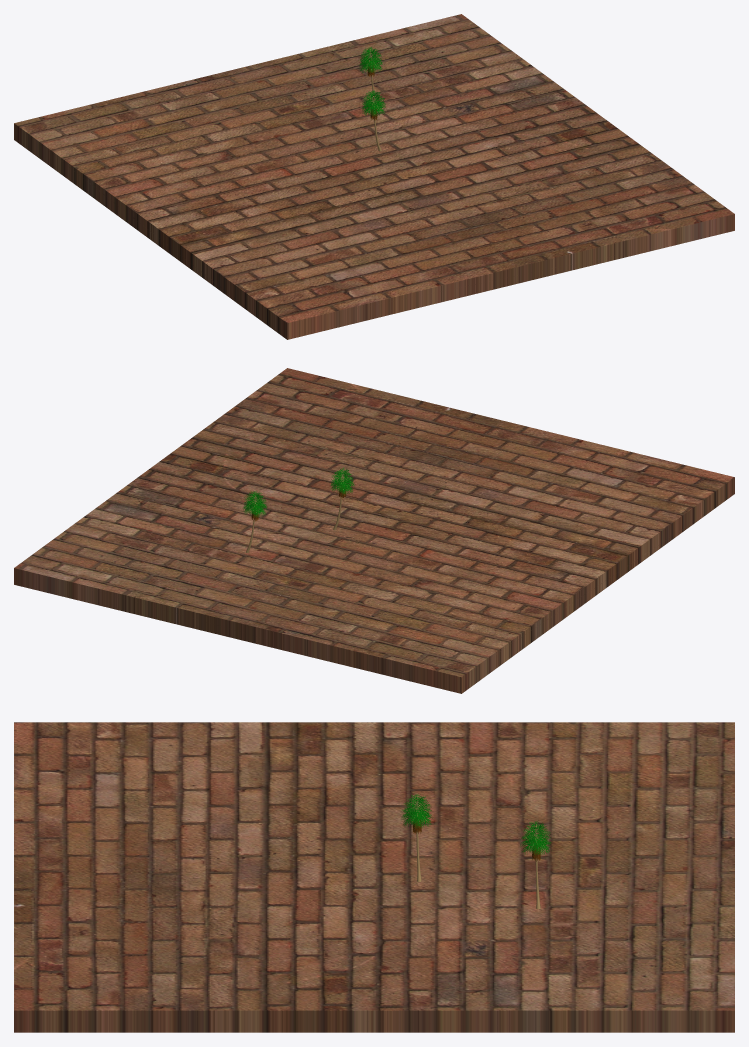
File: floor.obj
3 renders of one model, top to bottom at view 1: azimuth 30°, elevation 25°; view 2: azimuth 150°, elevation 25°; view 3: azimuth 270°, elevation 25°, orthographic. The views are drawn at different scales.
Visible parts, largest first — view 1: Box001, Foliage002, Foliage001; view 2: Box001, Foliage001, Foliage002; view 3: Box001, Foliage002, Foliage001.
Boxes of the visible parts, <box> form: Box001: <box>14,14,734,339</box>; Foliage002: <box>361,90,385,151</box>; Foliage001: <box>358,47,382,103</box>; Box001: <box>14,368,734,693</box>; Foliage001: <box>243,491,267,552</box>; Foliage002: <box>330,468,354,530</box>; Box001: <box>14,722,734,1032</box>; Foliage002: <box>401,794,432,881</box>; Foliage001: <box>520,821,551,909</box>.
Size of the model in its own units: 124 by 20.6 by 131.
